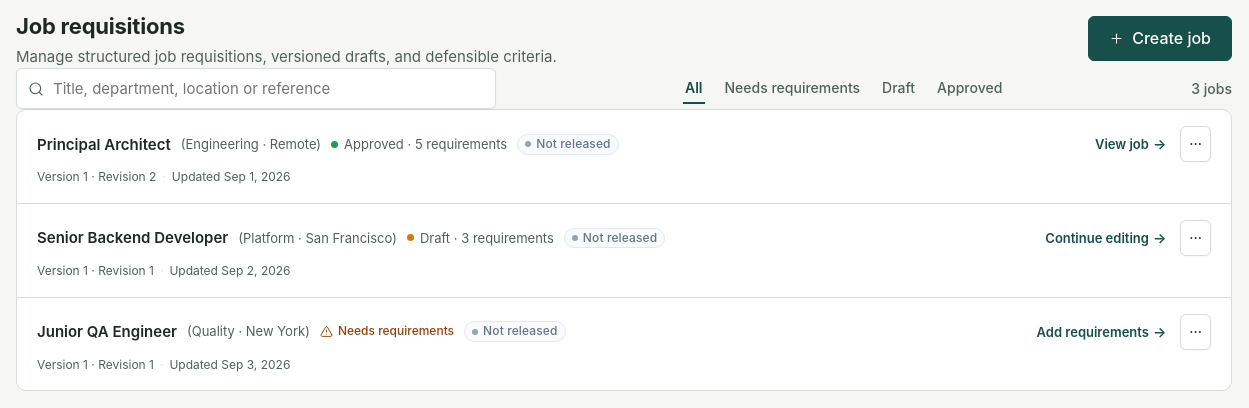
Scenario: Phase 2B.3: Jobs Workspace & Requirement Builder › Jobs Directory Status Calculation and Tab Filtering › filters correctly by Approved tab and excludes Draft jobs
The width and height of the screenshot is (1249, 408).
Click the tab "Approved" at coordinates (970, 89), box [935, 73, 1004, 104]
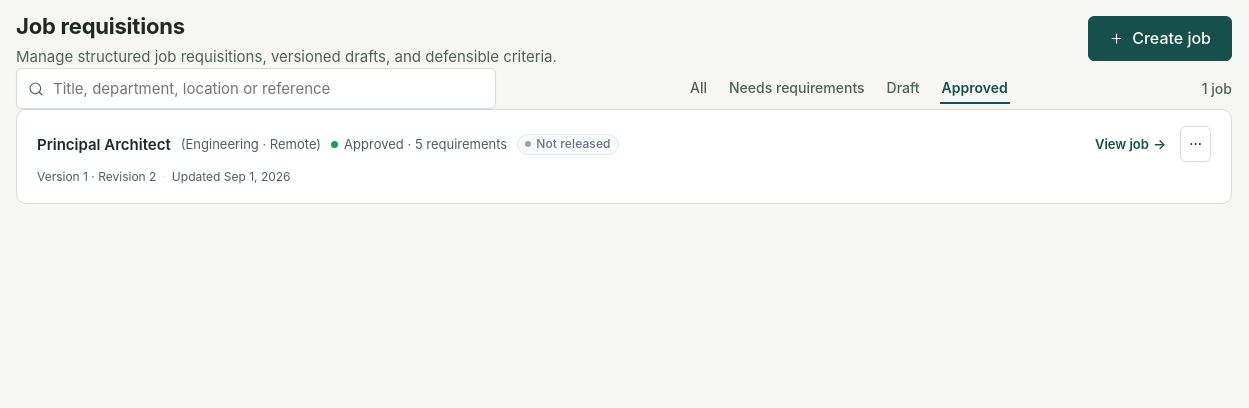
Check: the text "Senior Backend Developer" is gone
Check: the text "Junior QA Engineer" is gone
Check: the text "1 job" is shown, box [1202, 78, 1232, 100]
